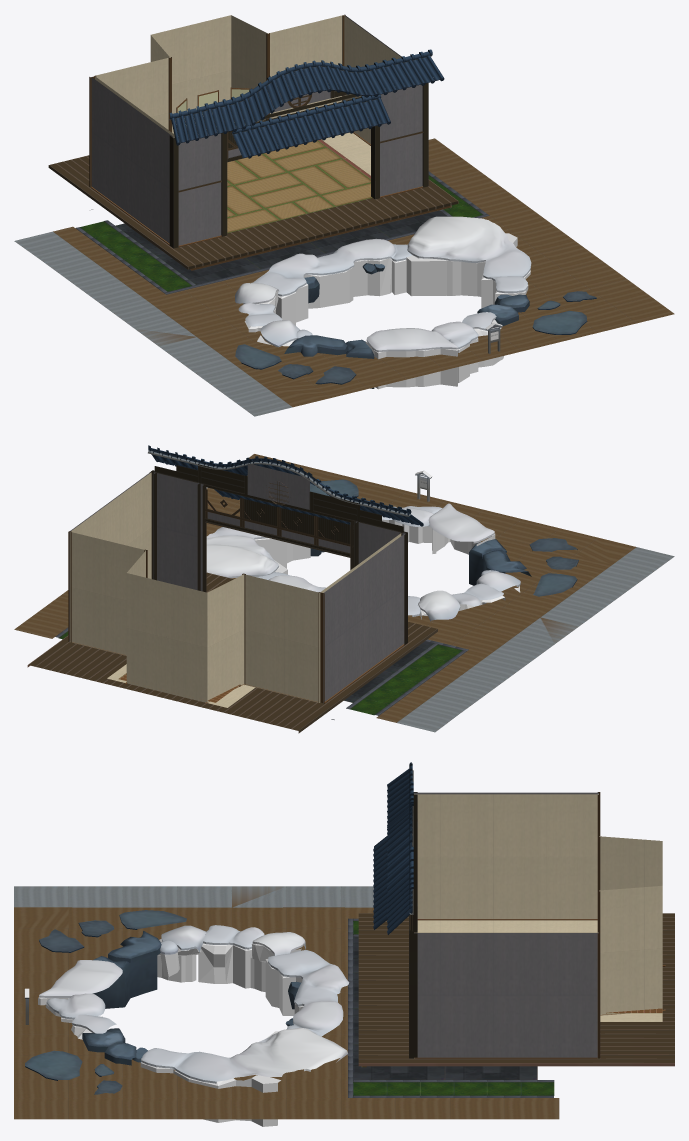
The model's file is FX_MESH_CH0165_HOUSE.fbx.
3 views of the same model, one above another, from view 1: azimuth 30°, elevation 25°; view 2: azimuth 150°, elevation 25°; view 3: azimuth 270°, elevation 25° (orthographic). The views are drawn at different scales.
Visible parts, largest first — view 1: FX_MESH_CH0165_HOUSE, onsen_floor_01, onsen_house_01, snow, onsen_rock_01; view 2: FX_MESH_CH0165_HOUSE, onsen_floor_01, snow, onsen_rock_01, onsen_house_01; view 3: FX_MESH_CH0165_HOUSE, onsen_floor_01, snow, onsen_rock_01, onsen_house_01.
Part boxes in pixels (<box>): FX_MESH_CH0165_HOUSE: <box>48,14,530,389</box>; onsen_floor_01: <box>14,138,674,416</box>; onsen_house_01: <box>169,49,444,233</box>; snow: <box>235,216,531,352</box>; onsen_rock_01: <box>235,263,596,388</box>; FX_MESH_CH0165_HOUSE: <box>27,463,520,733</box>; onsen_floor_01: <box>14,454,674,732</box>; snow: <box>206,503,520,621</box>; onsen_rock_01: <box>310,479,578,596</box>; onsen_house_01: <box>148,445,423,526</box>; FX_MESH_CH0165_HOUSE: <box>38,792,674,1126</box>; onsen_floor_01: <box>14,886,559,1119</box>; snow: <box>39,925,349,1083</box>; onsen_rock_01: <box>25,910,301,1094</box>; onsen_house_01: <box>373,762,413,934</box>.
Size of the model in its own units: 10.27 by 4.7 by 12.3.
4 materials, 4 textured.
